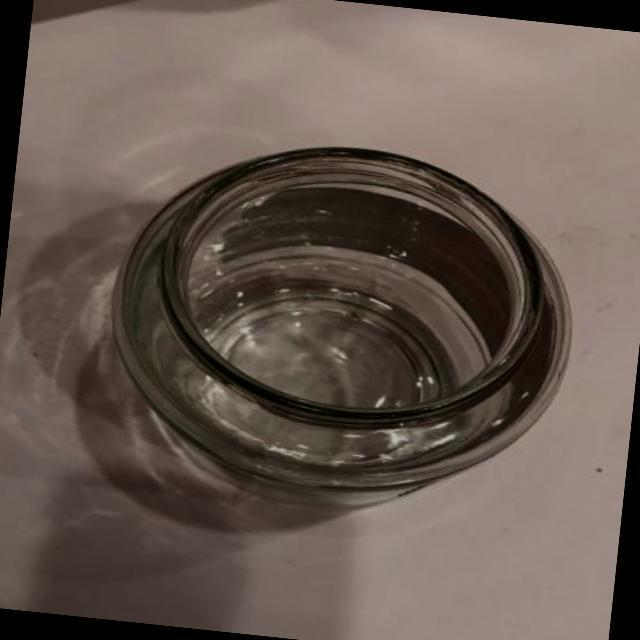ToplesKaca: (110, 143, 572, 504)
